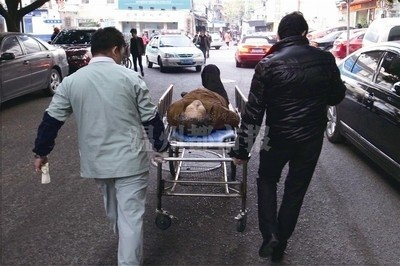falling: (164, 59, 240, 130)
